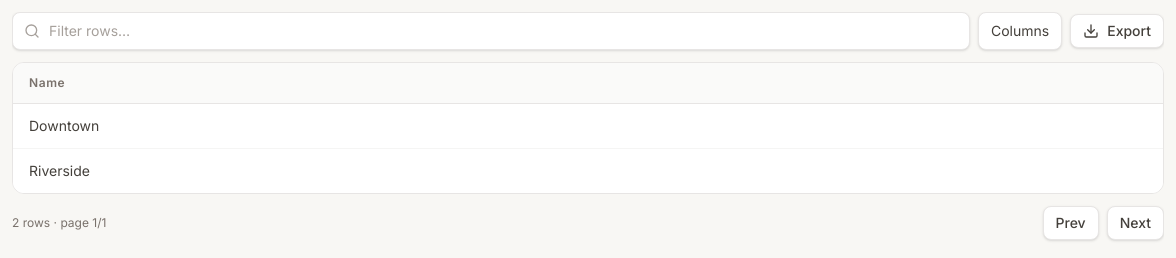
shared workflow components › filters table rows through its accessible search field
Type "river" into the field named "Filter table rows" at {"x": 491, "y": 31}, box [12,12,970,50]
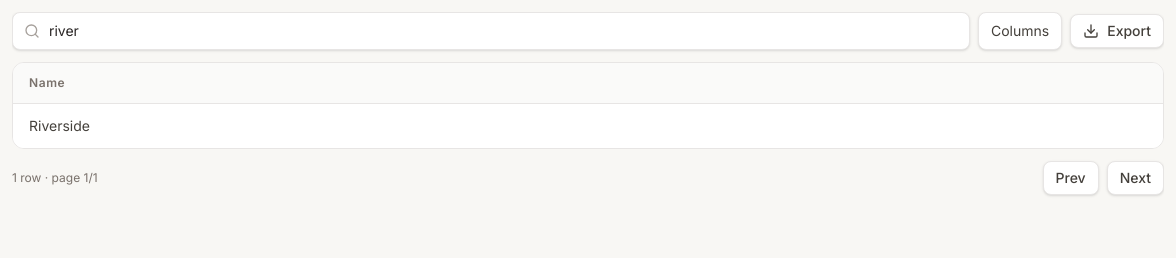
Expected: the text "Riverside" is shown, [13,104,1163,148]
Expected: the text "Downtown" is gone
